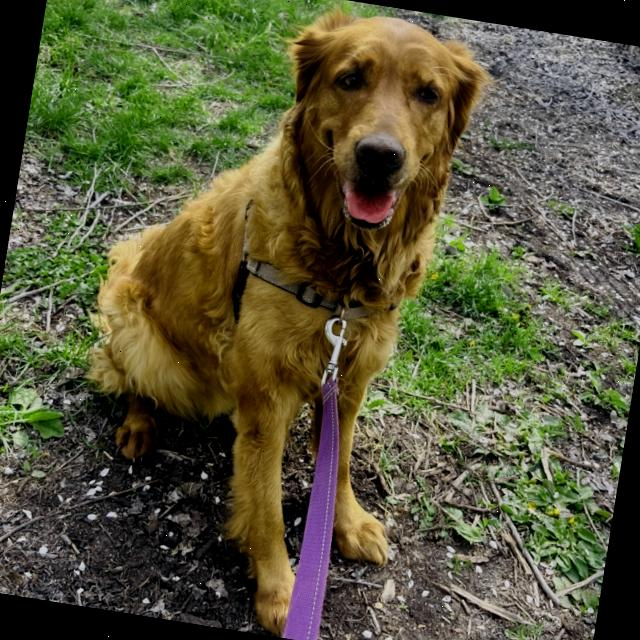golden_retriever_dog: (251, 0, 503, 269)
